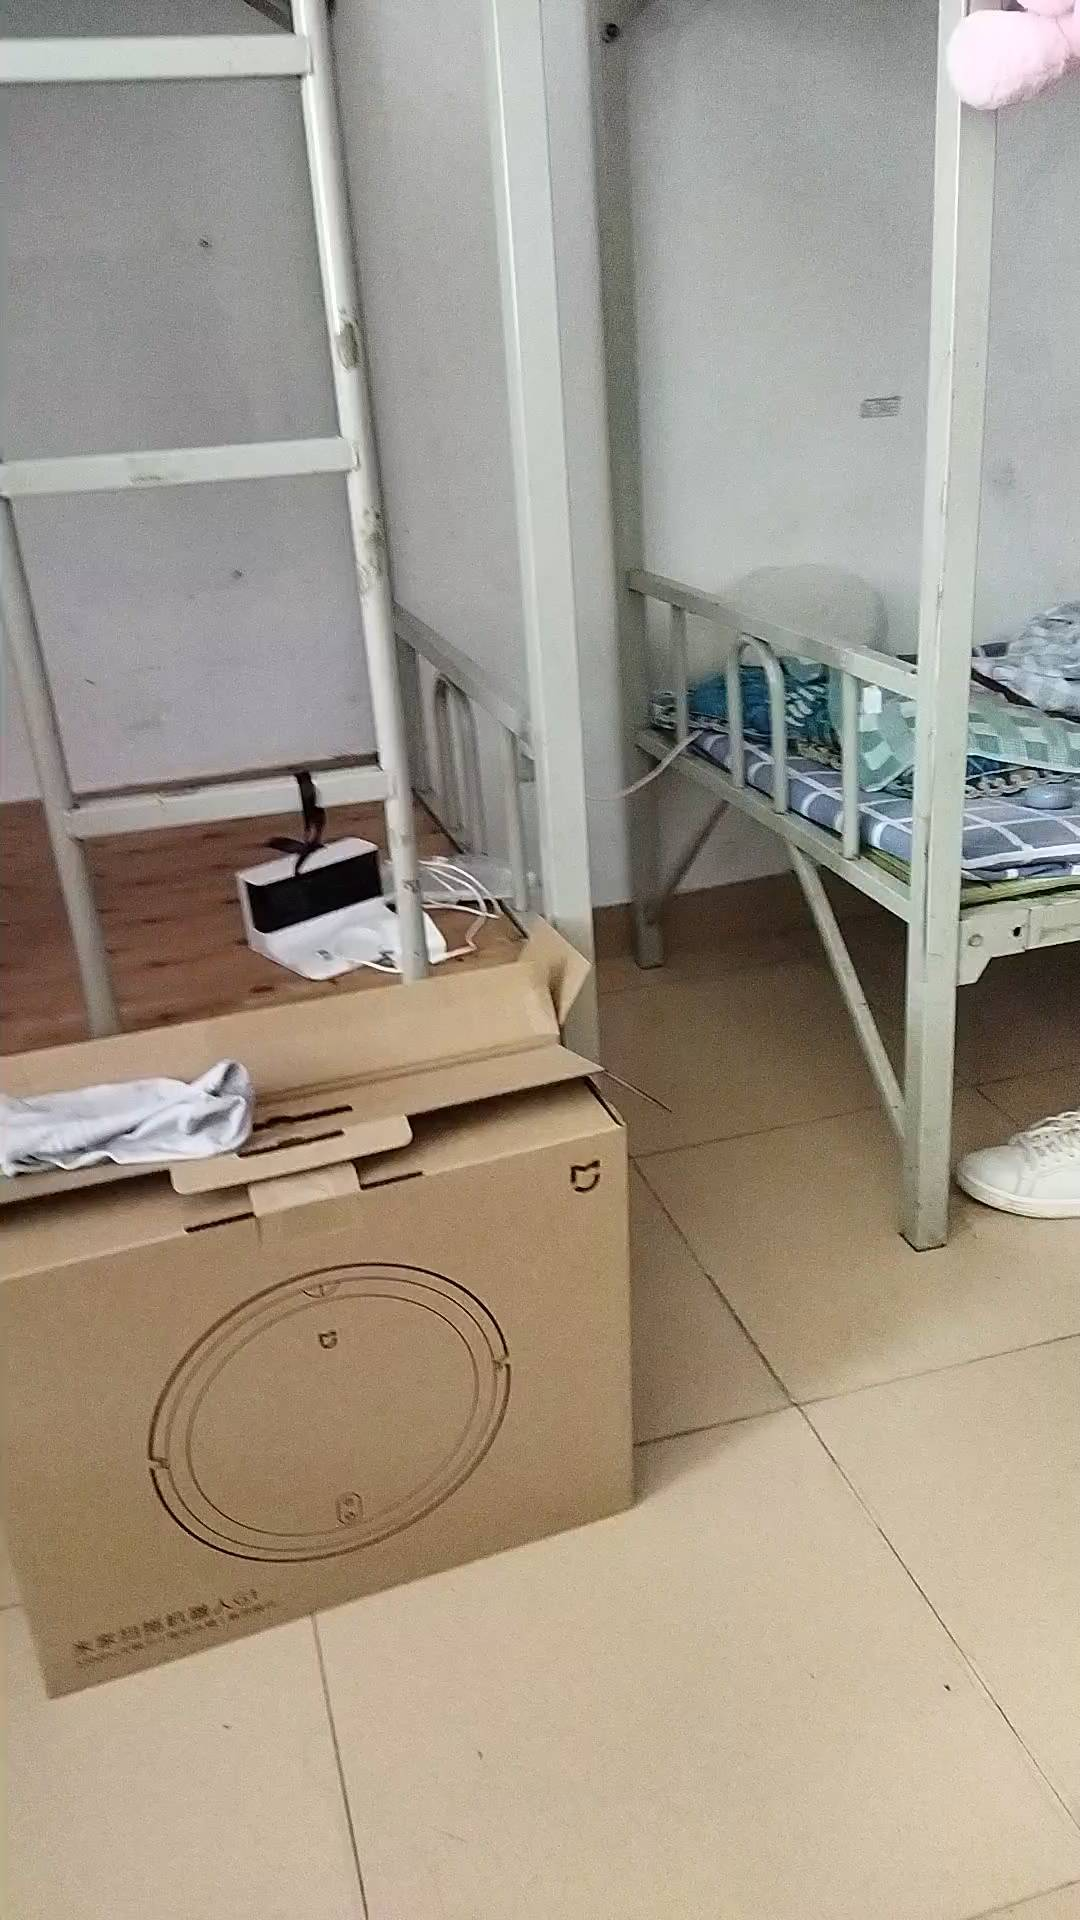recharge seat: (233, 836, 396, 978)
